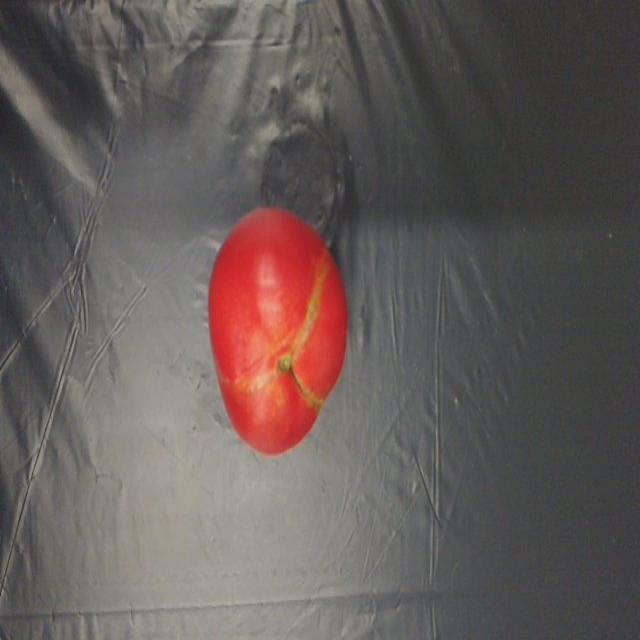kirmizi: (176, 200, 358, 464)
